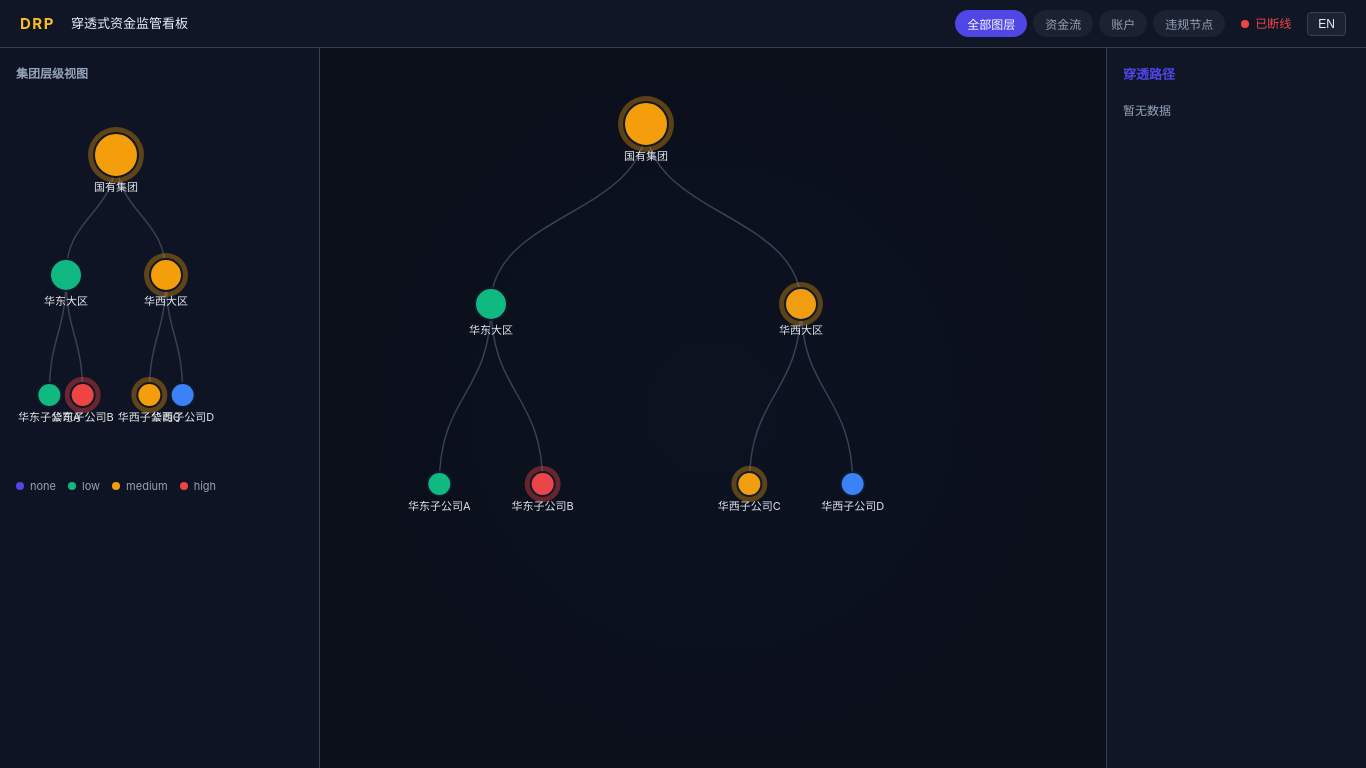
Test: Dashboard › 语言切换按钮
Note:  点击切换到英文
Click the button "EN". click: (1327, 24)
box: [1307,12,1346,36]
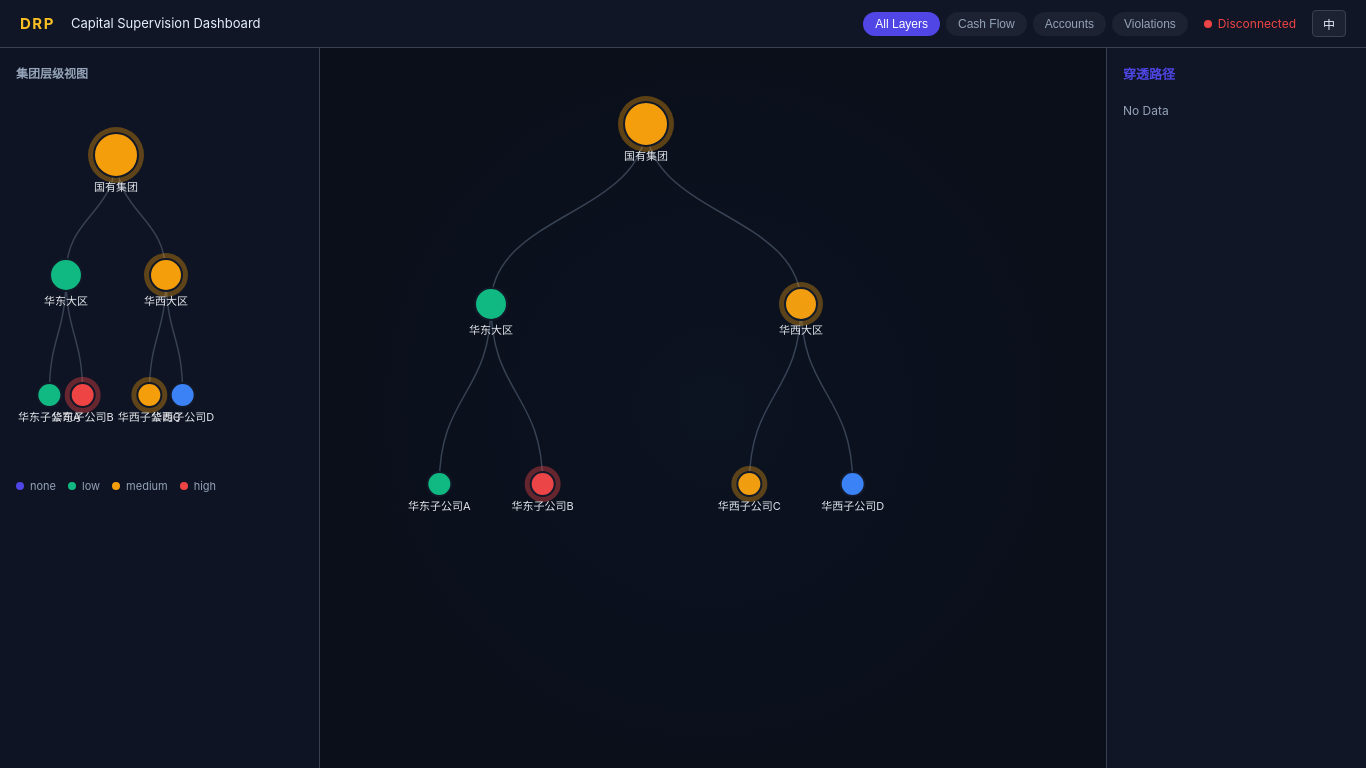
Check: the text "Capital Supervision Dashboard" is shown, box [71,13,260,34]
Check: the button "中" is shown
Note: 再次点击切换回中文
Click the button "中". click: (1329, 24)
box: [1312,10,1346,37]
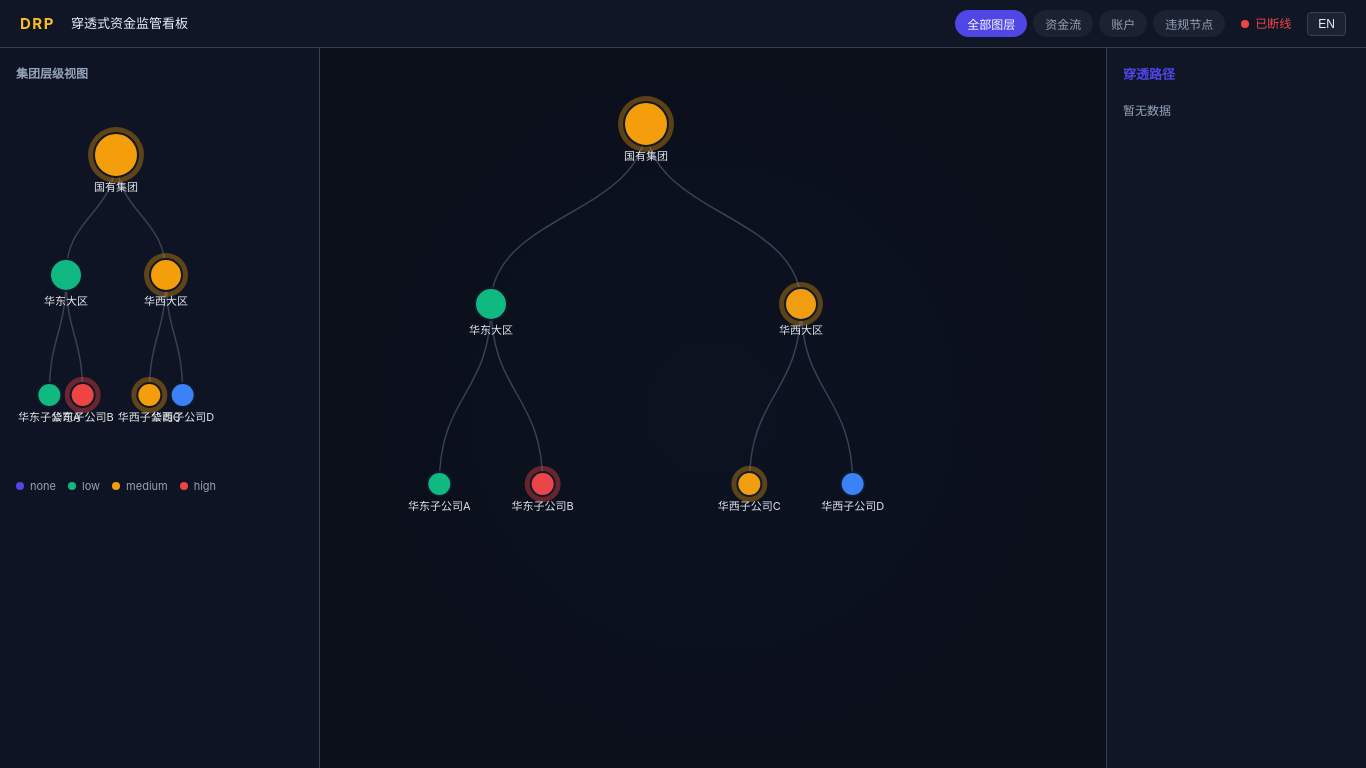
Check: the text "穿透式资金监管看板" is shown, box [71,13,188,34]
